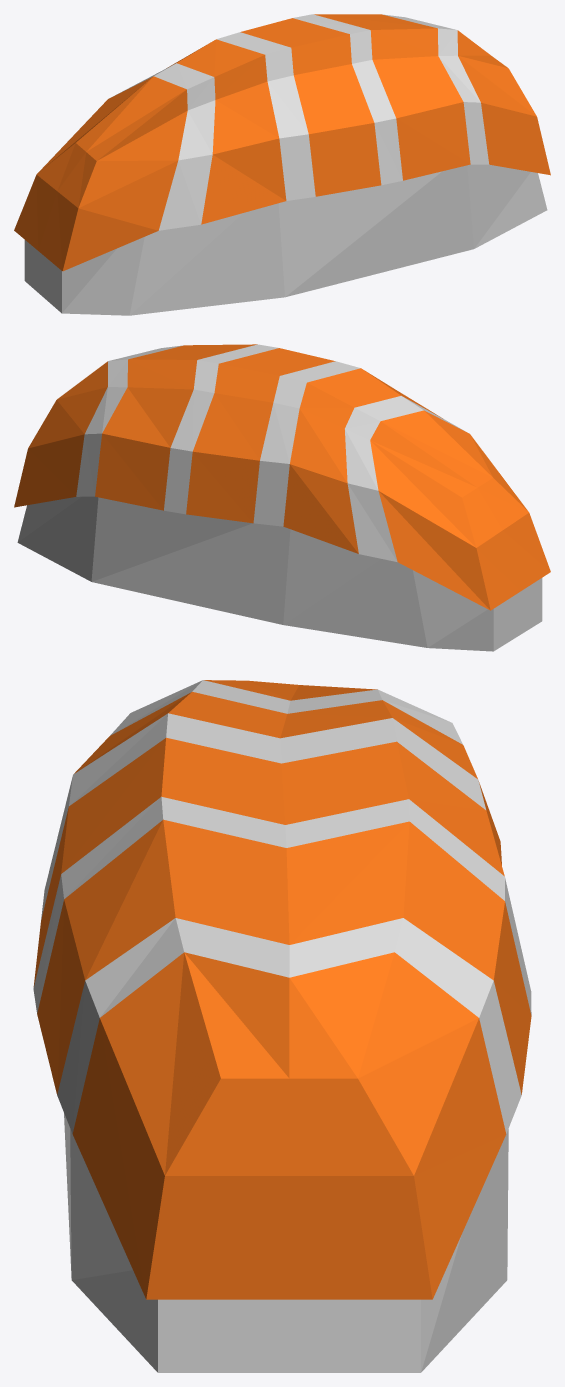
Rendered from Sushi_Nigiri1.obj.
3 renders of one model, top to bottom at view 1: azimuth 30°, elevation 25°; view 2: azimuth 150°, elevation 25°; view 3: azimuth 270°, elevation 25°, orthographic. The views are drawn at different scales.
Visible parts, largest first — view 1: Sushi_Nigiri1_Orange, Sushi_Nigiri1_White; view 2: Sushi_Nigiri1_Orange, Sushi_Nigiri1_White; view 3: Sushi_Nigiri1_Orange, Sushi_Nigiri1_White.
Boxes of the visible parts, x1,y1,x2,y2 form: Sushi_Nigiri1_Orange: (14,14,550,271); Sushi_Nigiri1_White: (24,14,547,315); Sushi_Nigiri1_Orange: (14,344,550,610); Sushi_Nigiri1_White: (17,344,542,651); Sushi_Nigiri1_Orange: (33,680,531,1299); Sushi_Nigiri1_White: (33,680,531,1372).
Bounding box in the file's own units: 0.5976 × 0.2344 × 0.2716.
